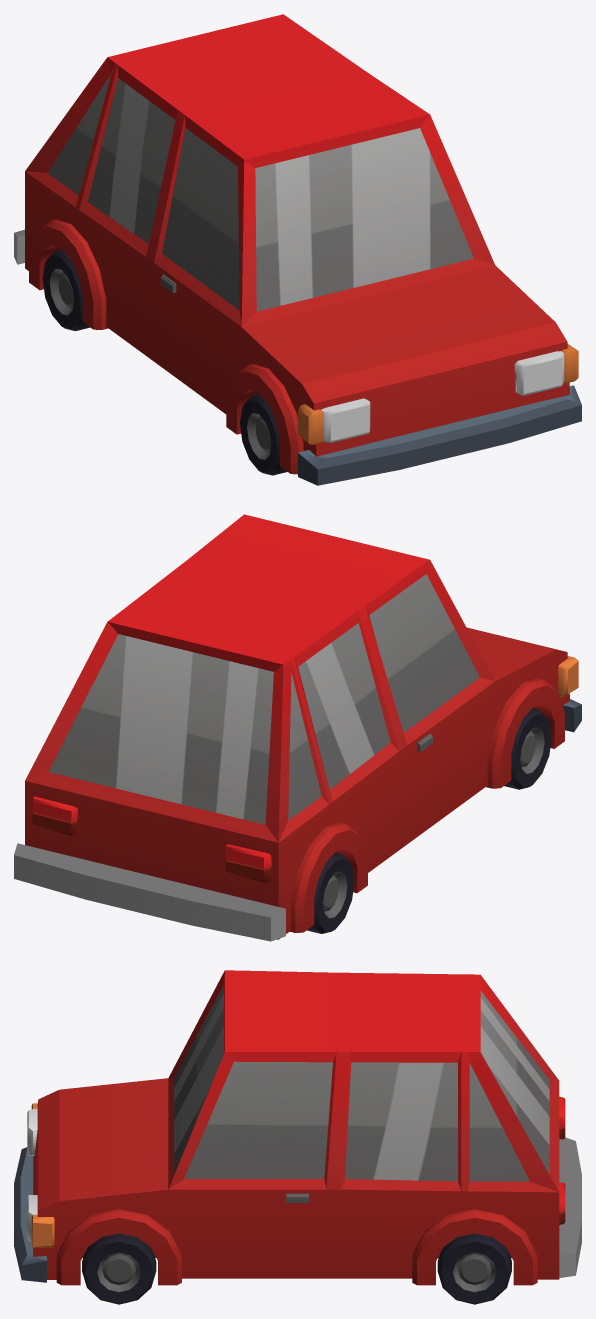
File: Car_1_4.fbx
3 renders of one model, top to bottom at view 1: azimuth 30°, elevation 25°; view 2: azimuth 150°, elevation 25°; view 3: azimuth 270°, elevation 25°, orthographic. The views are drawn at different scales.
Visible parts, largest first — view 1: Car_1_4, Wheel_Br, Wheel_Fr; view 2: Car_1_4, Wheel_Fr, Wheel_Br; view 3: Car_1_4, Wheel_Fl, Wheel_Bl.
Part boxes in pixels (left/top/right/bottom): Car_1_4: left=14, top=14, right=581, bottom=485; Wheel_Br: left=42, top=249, right=89, bottom=331; Wheel_Fr: left=240, top=394, right=287, bottom=475; Car_1_4: left=14, top=514, right=581, bottom=941; Wheel_Fr: left=504, top=708, right=551, bottom=789; Wheel_Br: left=307, top=852, right=354, bottom=933; Car_1_4: left=14, top=970, right=581, bottom=1285; Wheel_Fl: left=82, top=1233, right=156, bottom=1304; Wheel_Bl: left=437, top=1233, right=511, bottom=1304.
Size of the model in its own units: 1.05 by 0.9433 by 2.07.
